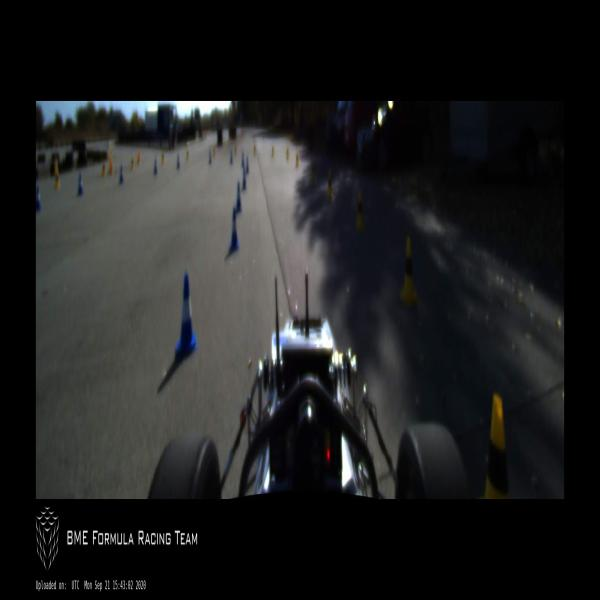blue_cone: (174, 276, 198, 359), (229, 208, 239, 251), (235, 183, 242, 214), (36, 186, 42, 212), (77, 174, 84, 196), (242, 168, 246, 190), (120, 167, 124, 183)
yellow_cone: (483, 394, 510, 498), (399, 236, 417, 306), (356, 192, 364, 232), (326, 172, 332, 200), (54, 170, 61, 188), (312, 161, 316, 182), (102, 161, 106, 177), (296, 150, 298, 166)
